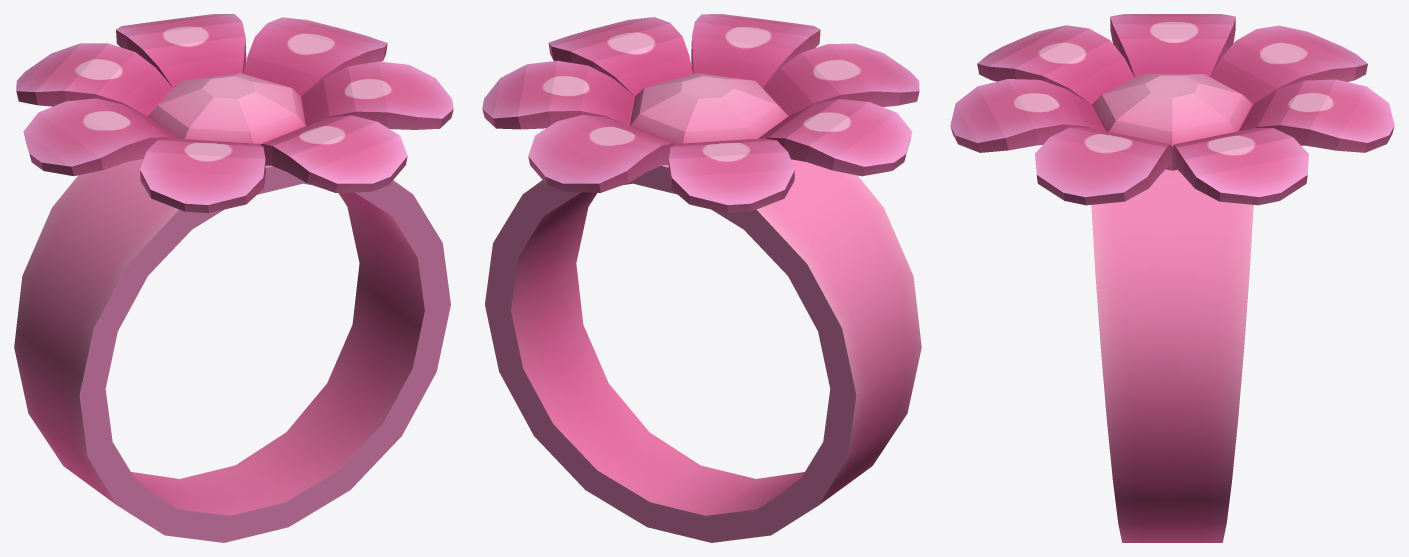
Rendered from ENV2010114.fbx.
3 views of the same model, side by side, from view 1: azimuth 30°, elevation 25°; view 2: azimuth 150°, elevation 25°; view 3: azimuth 270°, elevation 25° (orthographic).
Visible parts, largest first — view 1: smENV2010114; view 2: smENV2010114; view 3: smENV2010114.
Part boxes in pixels (box(x1,y1,x2,y2)): smENV2010114: box(14, 14, 453, 542); smENV2010114: box(482, 14, 921, 542); smENV2010114: box(950, 14, 1394, 542).
Bounding box in the file's own units: 3.76 × 4.04 × 3.76.
Materials: 1 (1 with a texture image).
